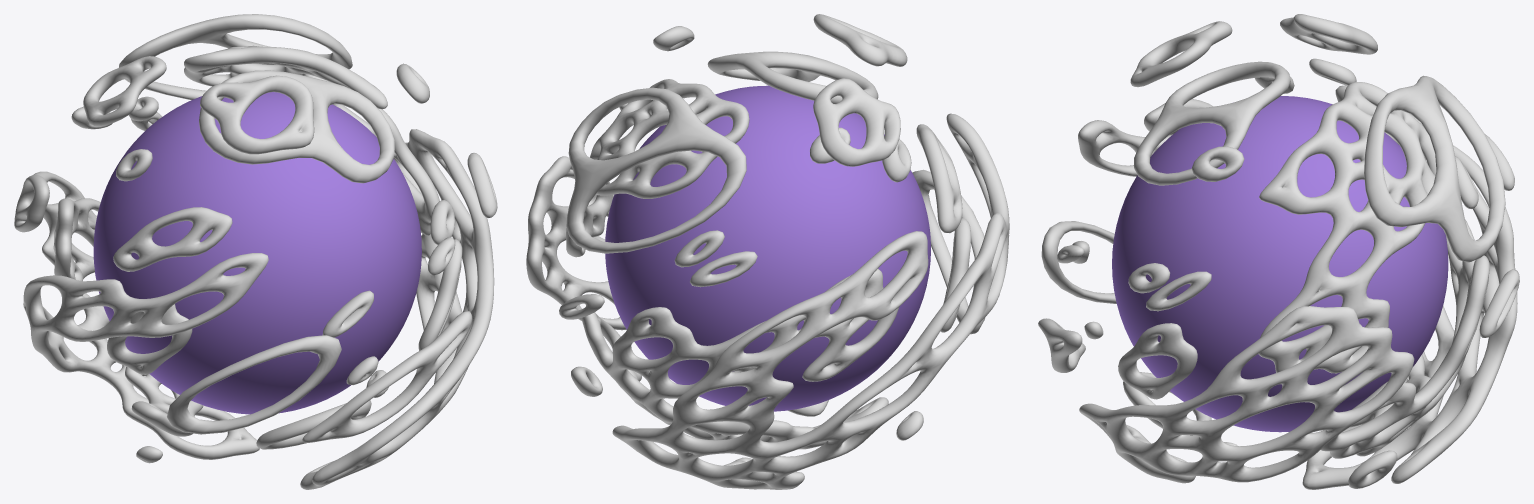
Rendered from alienball.glb.
The picture shows the model from 3 angles, left to right: view 1: azimuth 30°, elevation 25°; view 2: azimuth 150°, elevation 25°; view 3: azimuth 270°, elevation 25°; orthographic projection. The views are drawn at different scales.
Visible parts, largest first — view 1: Plane, Icosphere; view 2: Plane, Icosphere; view 3: Plane, Icosphere.
Part boxes in pixels (x1,y1,x2,y2): Plane: [14, 14, 497, 489]; Icosphere: [93, 92, 421, 414]; Plane: [526, 14, 1009, 489]; Icosphere: [605, 85, 930, 411]; Plane: [1038, 14, 1519, 489]; Icosphere: [1112, 96, 1448, 432].
Bounding box in the file's own units: 2.35 × 2.26 × 2.27.
